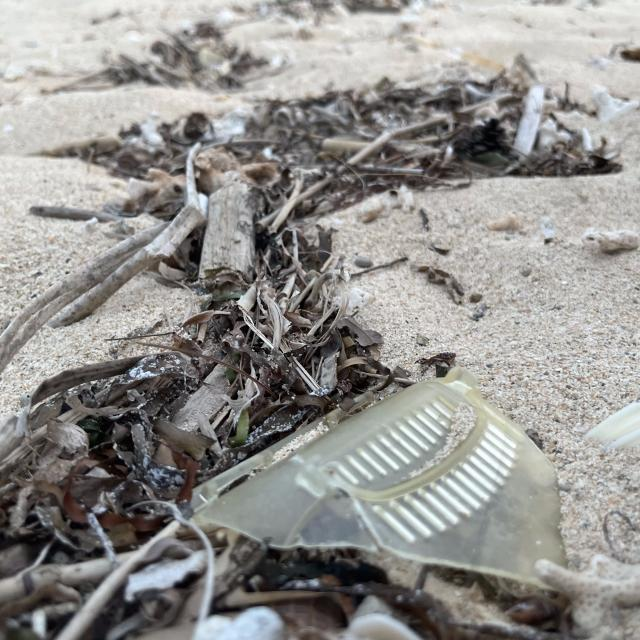coral: (528, 540, 640, 630)
seaweed: (0, 54, 623, 640)
stick: (190, 162, 264, 308)
trash: (190, 361, 604, 606)
